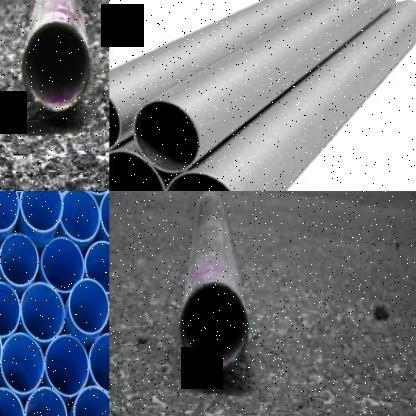pipe: (23, 19, 91, 113), (180, 280, 248, 374), (132, 98, 202, 176), (44, 334, 89, 398), (0, 332, 45, 394), (20, 282, 66, 342), (40, 237, 84, 293), (67, 278, 110, 334), (110, 148, 164, 192), (0, 233, 39, 286), (161, 168, 243, 192), (61, 191, 100, 241), (20, 191, 64, 233), (84, 240, 110, 293), (24, 386, 67, 416), (88, 333, 109, 394), (0, 282, 20, 338), (74, 385, 110, 416), (110, 81, 122, 154), (0, 190, 19, 232), (0, 386, 24, 415), (100, 191, 110, 243)
